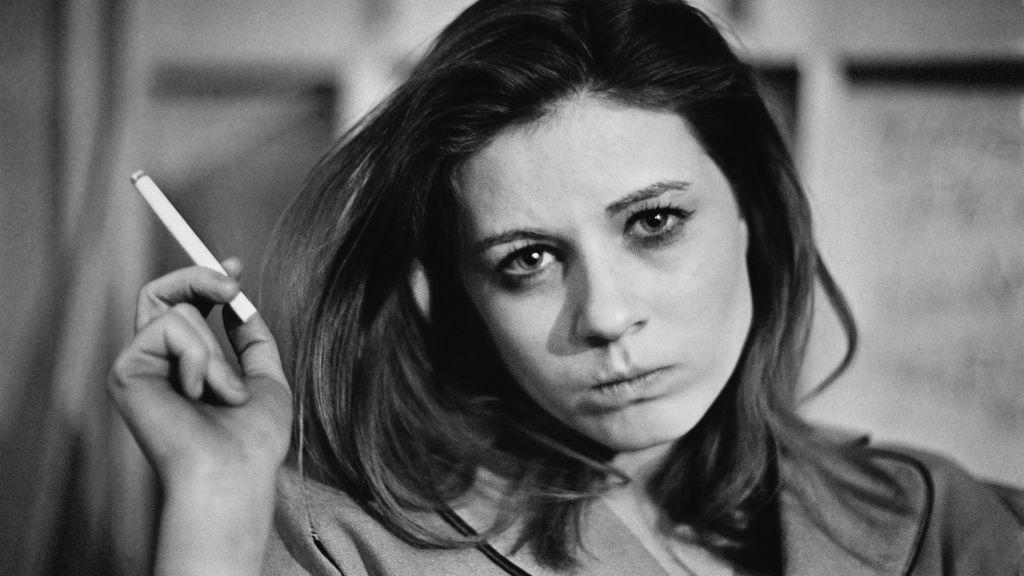smoke: (133, 169, 256, 323)
